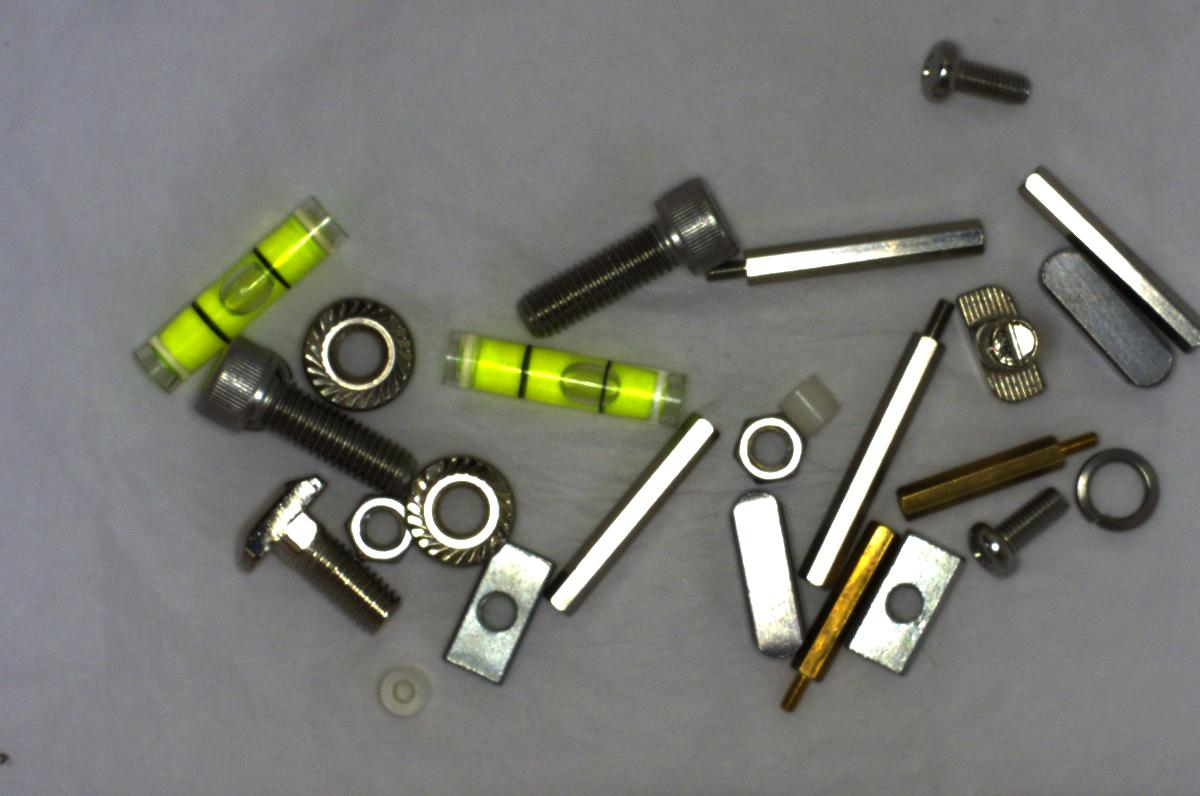Double hexagonal column: (535, 401, 728, 622), (1007, 163, 1193, 367)
Flange nut: (294, 285, 425, 419), (393, 445, 519, 571)
Hexagon nut: (728, 408, 811, 485), (343, 492, 417, 564)
Hexagon pillar: (767, 512, 894, 715), (898, 418, 1101, 522)
Hexagon screw: (510, 173, 747, 335), (192, 346, 415, 498)
Hexagonal steel column: (808, 282, 951, 586), (698, 221, 1011, 287)
Horizontal bubble: (121, 191, 352, 401), (428, 319, 683, 433)
Keybar: (1042, 241, 1182, 392), (719, 483, 814, 665)
Plastic cushion pillar: (776, 359, 844, 440), (371, 662, 435, 719)
Rectangular nut: (843, 531, 969, 682), (447, 535, 555, 685)
Round head screw: (908, 27, 1048, 124), (969, 486, 1076, 578)
Spring washer: (1064, 440, 1169, 540)
T-shaped screw: (216, 477, 406, 637), (955, 278, 1048, 412)
